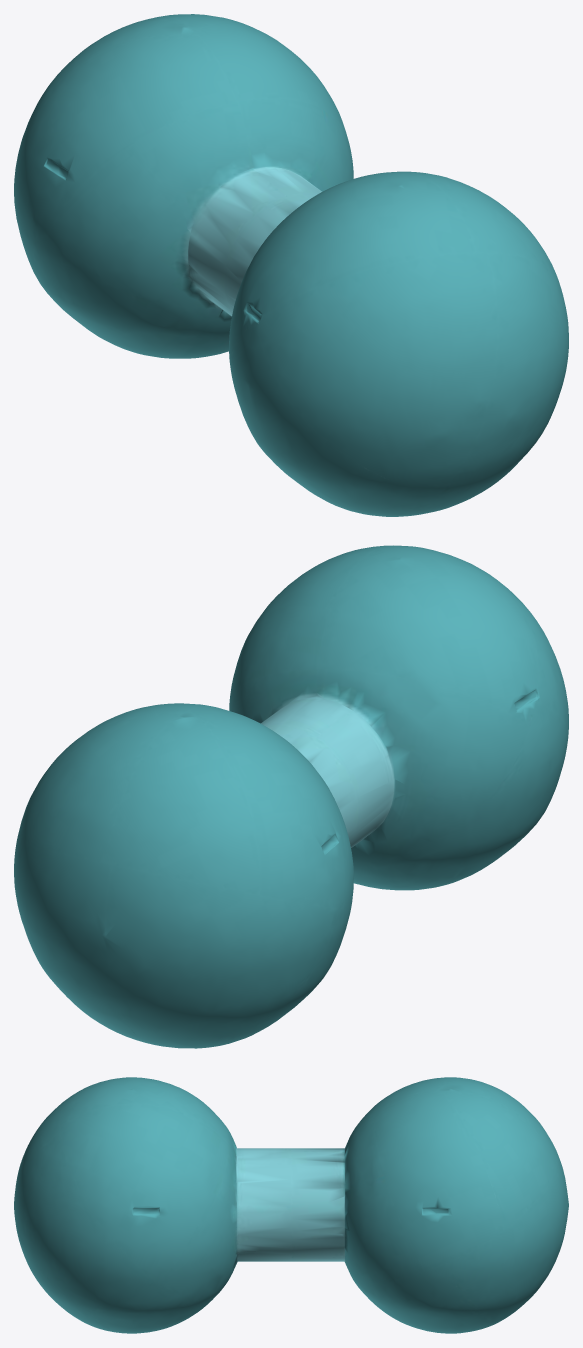
The model's file is ic-function.glb.
The picture shows the model from 3 angles, top to bottom: view 1: azimuth 30°, elevation 25°; view 2: azimuth 150°, elevation 25°; view 3: azimuth 270°, elevation 25°; orthographic projection. The views are drawn at different scales.
Visible parts, largest first — view 1: tripo_node_37c8d5aa-8540-442f-a711-1b644b9c38b4; view 2: tripo_node_37c8d5aa-8540-442f-a711-1b644b9c38b4; view 3: tripo_node_37c8d5aa-8540-442f-a711-1b644b9c38b4.
Boxes of the visible parts, left/top/right/bottom form: tripo_node_37c8d5aa-8540-442f-a711-1b644b9c38b4: left=14, top=14, right=568, bottom=516; tripo_node_37c8d5aa-8540-442f-a711-1b644b9c38b4: left=14, top=545, right=568, bottom=1048; tripo_node_37c8d5aa-8540-442f-a711-1b644b9c38b4: left=14, top=1077, right=568, bottom=1333.
Size of the model in its own units: 0.1985 by 0.2 by 0.4322.
Materials: 1 (1 with a texture image).
